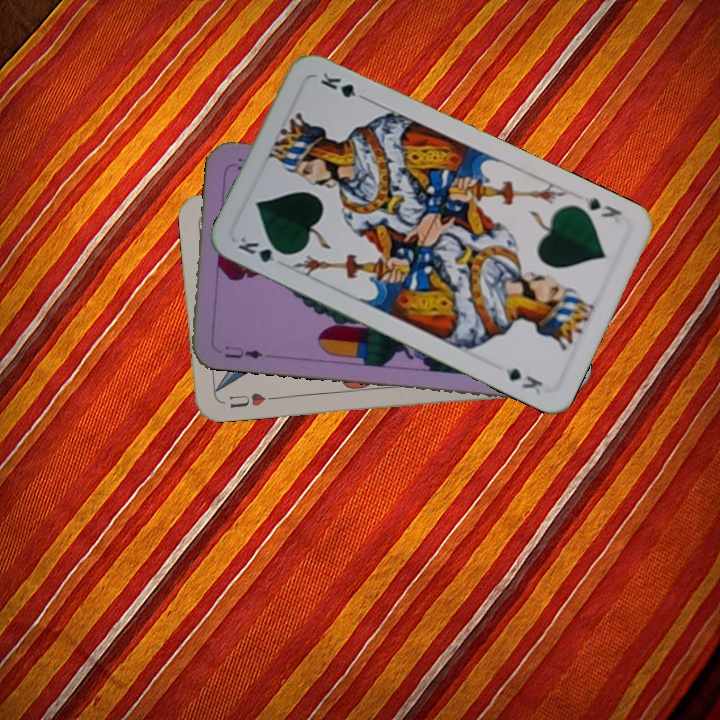EU: (220, 342, 265, 362)
GK: (233, 232, 291, 266), (580, 193, 625, 220)
HU: (225, 389, 276, 411)
